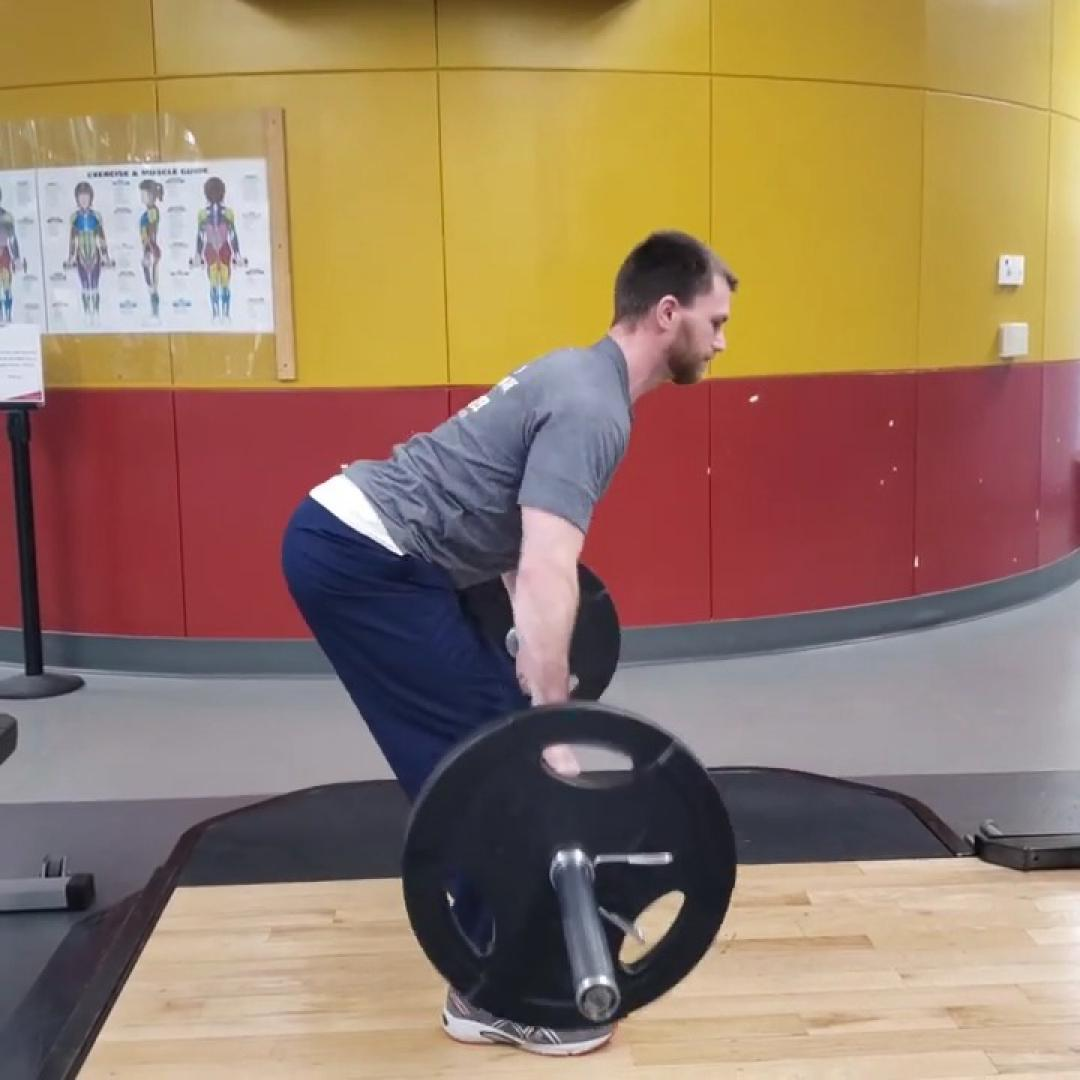Bar: (576, 978, 622, 1023)
Barbell: (402, 708, 736, 1030)
